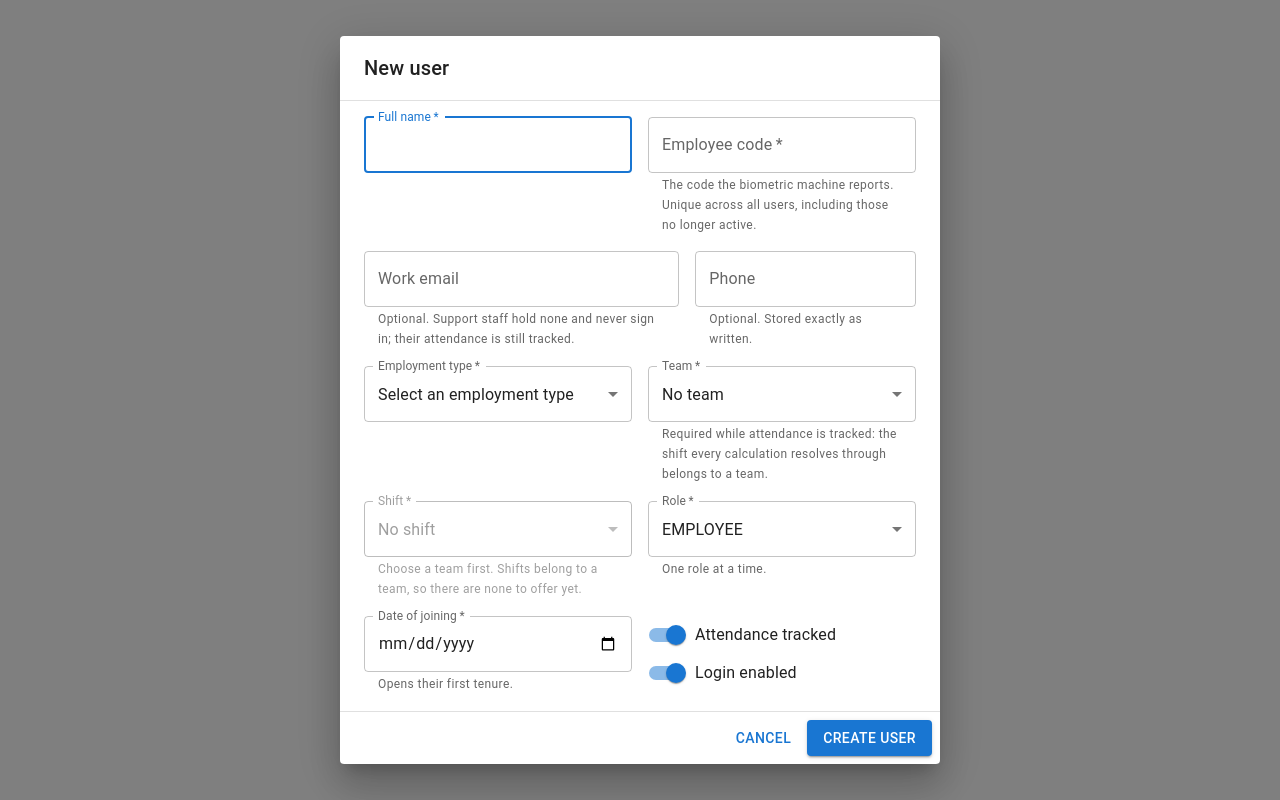
UserFormDialog › offers the teams a user may be created into
Click the dropdown labelled "No team": (693, 394) [662,385,724,404]
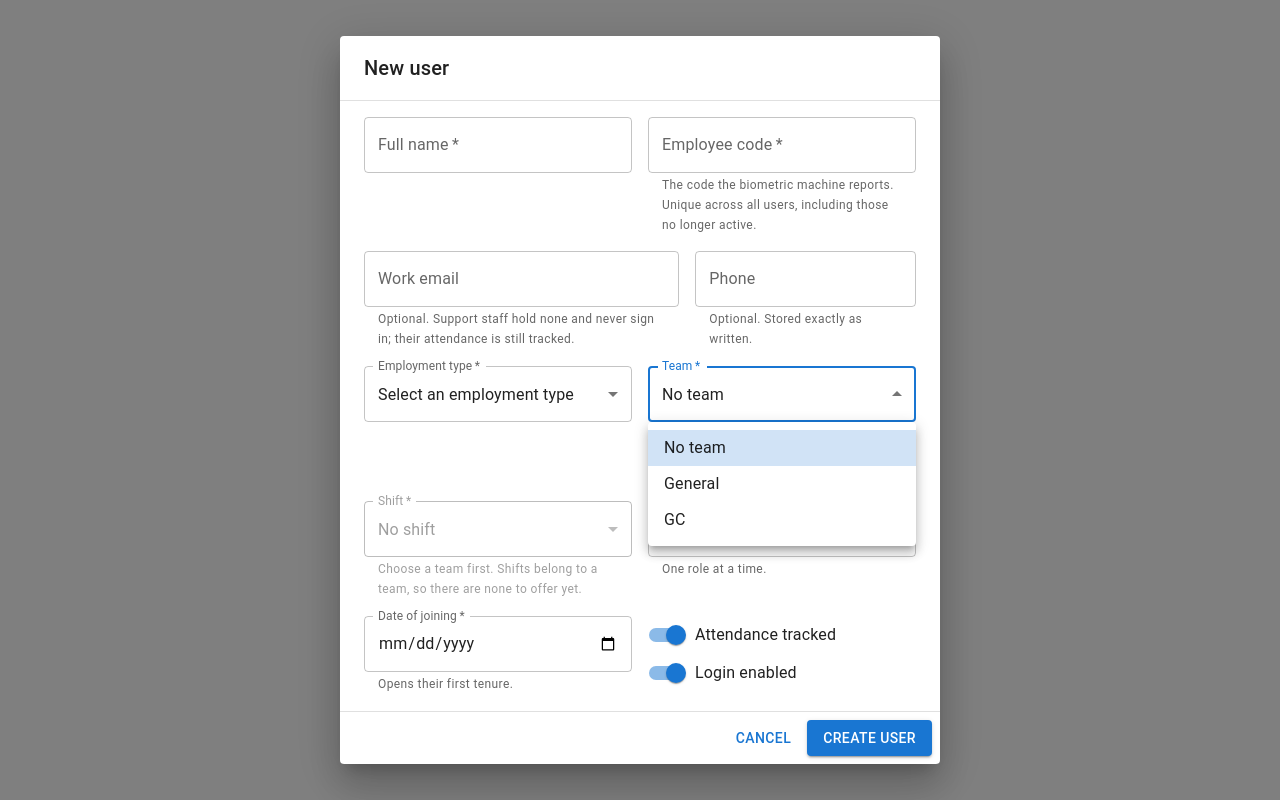
Check: the option "General" is shown, box [664,474,720,493]
Check: the option "GC" is shown, box [664,510,686,529]
